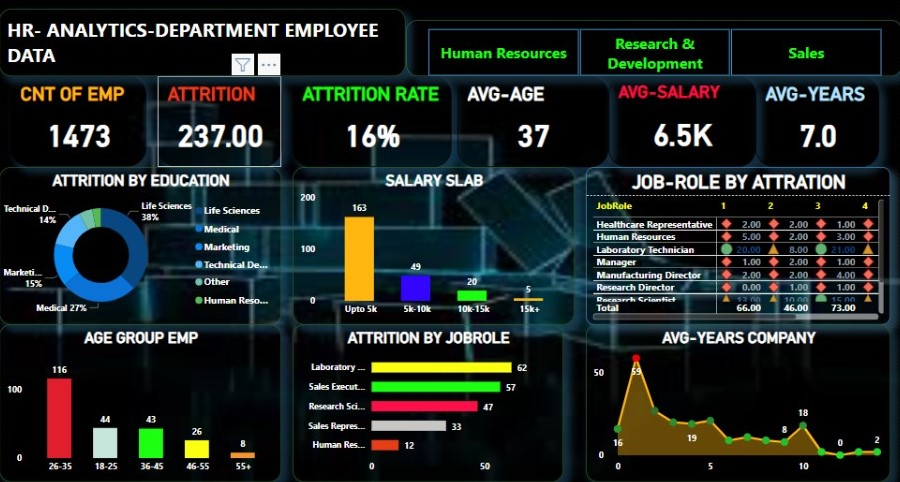

Layout of this report page (visuals, bound fields, positions):
{"tool":"powerbi","page":{"name":"Hr_Analyst ","canvas":[1280,720],"ordinal":0},"visuals":[{"type":"card","title":"CNT OF EMP","fields":{"Values":["CountNonNull(HR_Analytics.EmpID)"]},"box":[16,144,192,128],"z":0},{"type":"card","title":"ATTRITION","fields":{"Values":["Sum(HR_Analytics.Attritioncount)"]},"box":[224,144,176,128],"z":1000},{"type":"card","title":"ATTRITION RATE","fields":{"Values":["HR_Analytics.Attrition Rate"]},"box":[415.8,143.5,224.5,128.9],"z":2000},{"type":"card","title":"AVG-AGE","fields":{"Values":["Avg(HR_Analytics.Age)"]},"box":[649.6,143.5,213.9,128.9],"z":3000},{"type":"card","title":"AVG-SALARY","fields":{"Values":["Avg(HR_Analytics.MonthlyIncome)"]},"box":[863.5,143.5,208.6,128.9],"z":4000},{"type":"card","title":"AVG-YEARS","fields":{"Values":["Avg(HR_Analytics.YearsAtCompany)"]},"box":[1072,143.5,175.4,128.9],"z":5000},{"type":"donutChart","title":"ATTRITION BY EDUCATION","fields":{"Category":["HR_Analytics.EducationField"],"Y":["Sum(HR_Analytics.Attritioncount)"]},"box":[0,272,400,224],"z":6000},{"type":"columnChart","title":"AGE GROUP EMP","fields":{"Category":["HR_Analytics.AgeGroup"],"Y":["Sum(HR_Analytics.Attritioncount)"]},"box":[0,496,400,224],"z":7000},{"type":"pivotTable","title":"JOB-ROLE BY ATTRATION","fields":{"Rows":["HR_Analytics.JobRole"],"Columns":["HR_Analytics.JobSatisfaction"],"Values":["Sum(HR_Analytics.Attritioncount)"]},"box":[832,272,432,224],"z":8000},{"type":"columnChart","title":"SALARY SLAB","fields":{"Y":["Sum(HR_Analytics.Attritioncount)"],"Category":["HR_Analytics.SalarySlab"]},"box":[416,272,400,224],"z":9000},{"type":"barChart","title":"ATTRITION BY JOBROLE","fields":{"Category":["HR_Analytics.JobRole"],"Y":["Sum(HR_Analytics.Attritioncount)"]},"box":[416,496,384,224],"z":10000},{"type":"areaChart","title":"AVG-YEARS COMPANY","fields":{"Category":["HR_Analytics.YearsAtCompany"],"Y":["Sum(HR_Analytics.Attritioncount)"]},"box":[832,496,432,224],"z":11000},{"type":"slicer","fields":{"Values":["HR_Analytics.Department"]},"box":[576,64,704,80],"z":12000},{"type":"textbox","box":[0,48,576,96],"z":13000}]}

Visuals, with their boxes on the page's 1280x720 design canvas (x1, y1, x2, y2). These are canvas units, not pixel positions in the 900x482 screenshot, which may show the page scaled, cropped or inside an application window:
"CNT OF EMP" card: [16,144,208,272]
"ATTRITION" card: [224,144,400,272]
"ATTRITION RATE" card: [416,144,640,272]
"AVG-AGE" card: [650,144,864,272]
"AVG-SALARY" card: [864,144,1072,272]
"AVG-YEARS" card: [1072,144,1247,272]
"ATTRITION BY EDUCATION" donutChart: [0,272,400,496]
"AGE GROUP EMP" columnChart: [0,496,400,720]
"JOB-ROLE BY ATTRATION" pivotTable: [832,272,1264,496]
"SALARY SLAB" columnChart: [416,272,816,496]
"ATTRITION BY JOBROLE" barChart: [416,496,800,720]
"AVG-YEARS COMPANY" areaChart: [832,496,1264,720]
slicer - HR_Analytics.Department: [576,64,1280,144]
textbox: [0,48,576,144]
